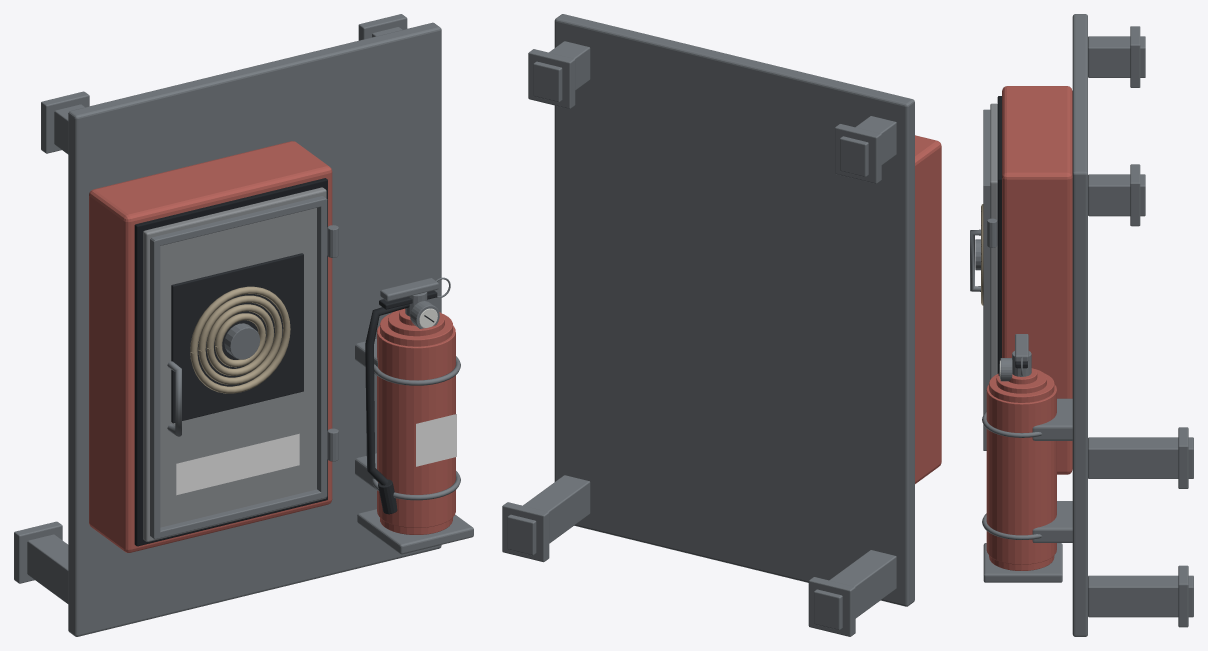
Rendered from BC_WallSafety_R11.fbx.
3 renders of one model, left to right at view 1: azimuth 30°, elevation 25°; view 2: azimuth 150°, elevation 25°; view 3: azimuth 270°, elevation 25°, orthographic. The views are drawn at different scales.
Parts seen in each view (by area): view 1: BC_WallSafety_R11; view 2: BC_WallSafety_R11; view 3: BC_WallSafety_R11.
Boxes of the visible parts, x1,y1,x2,y2 form: BC_WallSafety_R11: (14, 14, 473, 636); BC_WallSafety_R11: (502, 14, 941, 636); BC_WallSafety_R11: (970, 14, 1193, 636).
Bounding box in the file's own units: 134 × 182 × 79.41.
